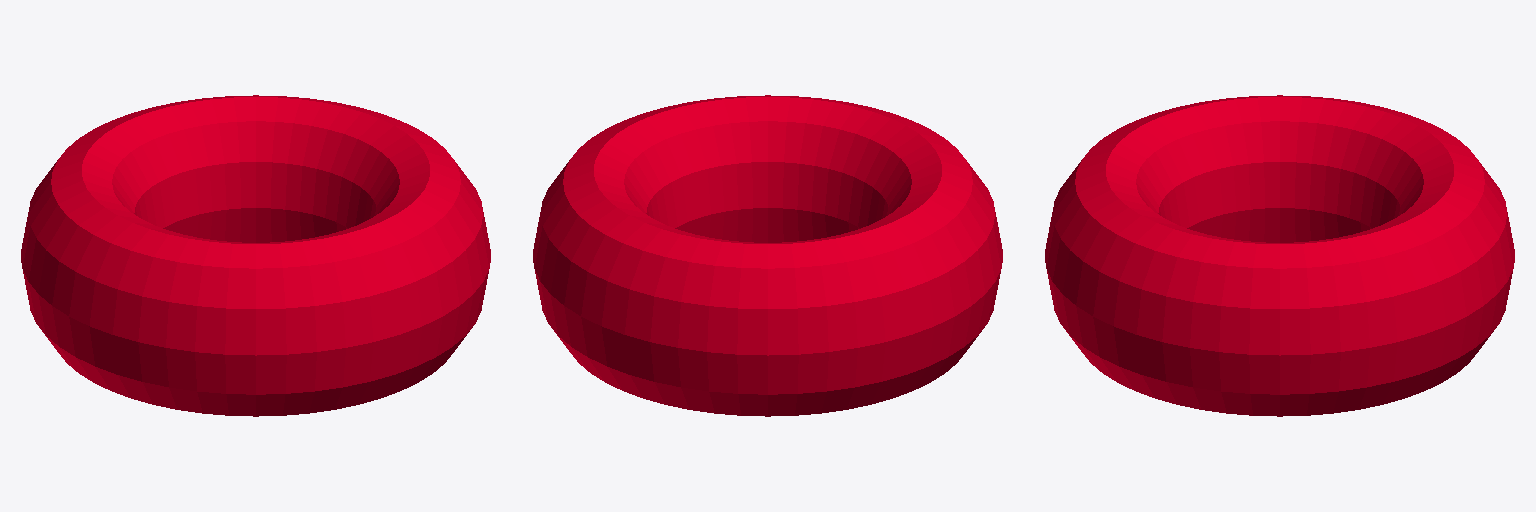
The robot description file, URDF, robot "torus.urdf":
<?xml version="1.0" ?>
<robot name="torus.urdf">

  <link name="torus">
    <contact>
    	<friction_anchor/>
    	   <lateral_friction value="1.0"/>
    </contact>
    <inertial>
      <origin rpy="0 0 0" xyz="0 0 0"/>
       <mass value=".1"/>
       <inertia ixx="1" ixy="0" ixz="0" iyy="1" iyz="0" izz="1"/>
    </inertial>
    <visual>
      <origin rpy="0 0 0" xyz="0 0 0"/>
      <geometry>
				<mesh filename="torus.obj" scale="1.0 1.0 1.0"/>
      </geometry>
       <material name="red">
        <color rgba="0.9 0 0.2 1.0"/>
      </material>
    </visual>
    <collision>
      <origin rpy="0 0 0" xyz="0 0 0"/>
      <geometry>
				<mesh filename="torus.obj" scale="1.0 1.0 1.0"/>
      </geometry>
    </collision>
  </link>


</robot>

--- What the picture shows (computed from the rendered views, not written in the file) ---
Views: 3 orthographic renders of the robot side by side, from view 1: azimuth 30°, elevation 25°; view 2: azimuth 150°, elevation 25°; view 3: azimuth 270°, elevation 25°.
Robot: torus.urdf — 1 links, 0 joints (none); root link torus; default pose: every joint at zero.
Links seen in each view (by area): view 1: torus; view 2: torus; view 3: torus.
Boxes of the visible links, <box> form: torus: <box>21,95,490,416</box>; torus: <box>533,95,1002,416</box>; torus: <box>1045,95,1514,416</box>.
Size in the robot's own frame: 0.125 by 0.125 by 0.05 metres.
Meshes: 1 distinct files referenced, 1 mesh visuals loaded (1 OBJ).